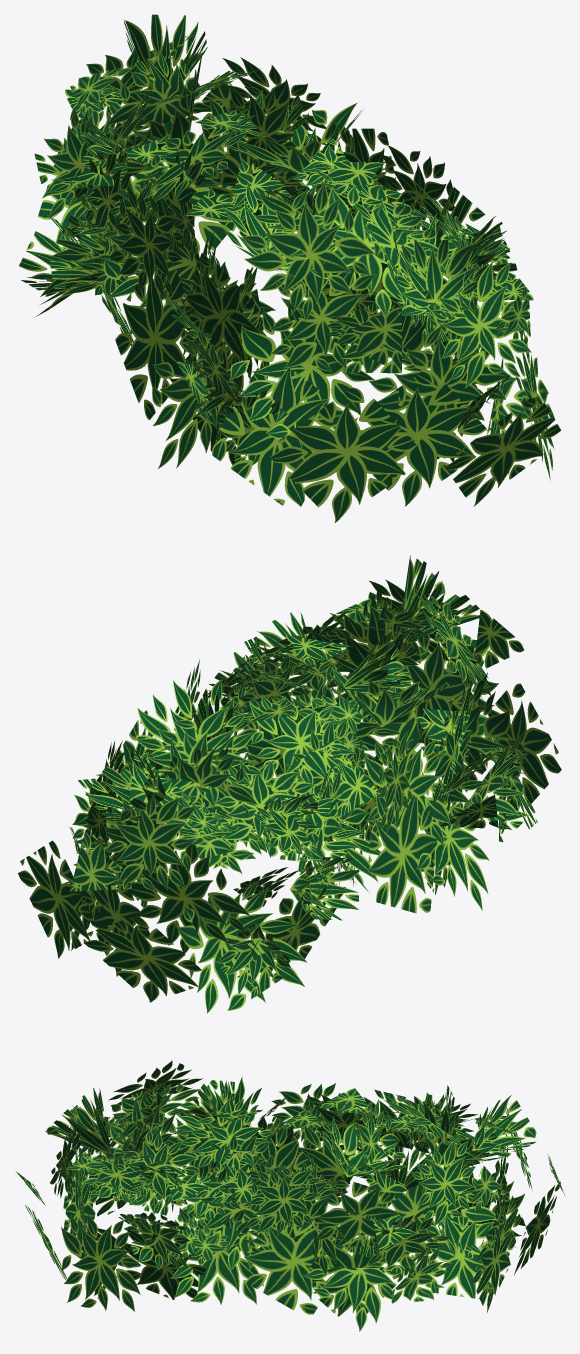
The model's file is Bush2_LOD1.fbx.
3 views of the same model, one above another, from view 1: azimuth 30°, elevation 25°; view 2: azimuth 150°, elevation 25°; view 3: azimuth 270°, elevation 25° (orthographic). The views are drawn at different scales.
Visible parts, largest first — view 1: Bush2_LOD1; view 2: Bush2_LOD1; view 3: Bush2_LOD1.
Boxes of the visible parts, x1=… form: Bush2_LOD1: x1=19, y1=14, x2=561, y2=522; Bush2_LOD1: x1=18, y1=555, x2=561, y2=1013; Bush2_LOD1: x1=16, y1=1060, x2=565, y2=1331.
Size of the model in its own units: 246 by 208 by 473.
